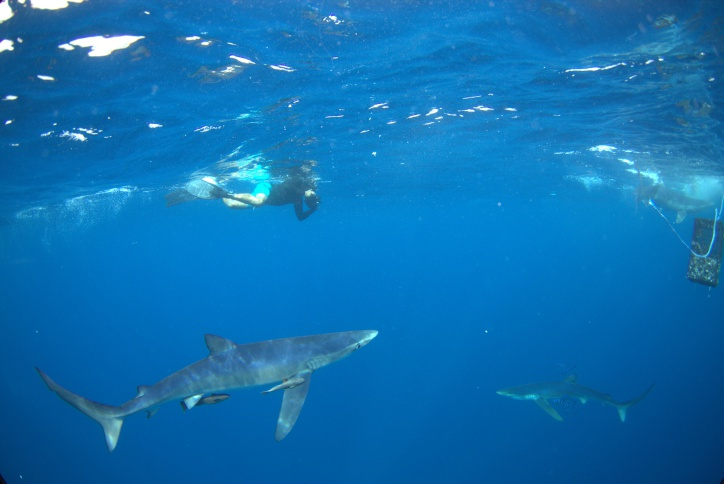Azul: (26, 307, 398, 458)
